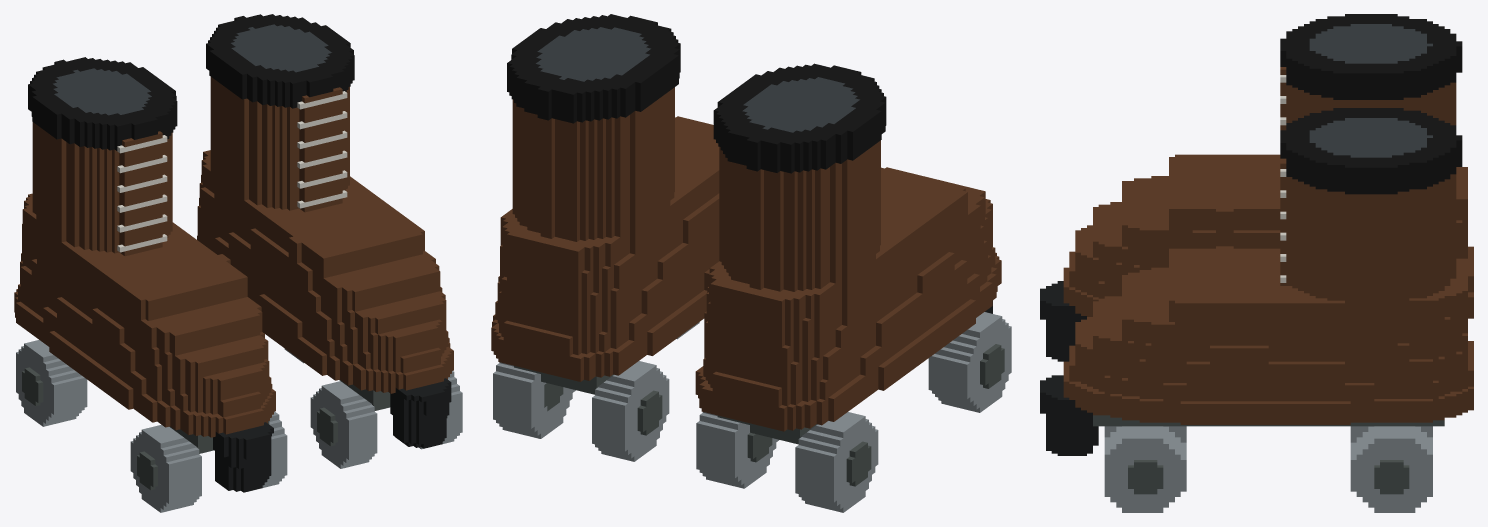
File: roller_skates.glb
3 renders of one model, left to right at view 1: azimuth 30°, elevation 25°; view 2: azimuth 150°, elevation 25°; view 3: azimuth 270°, elevation 25°, orthographic. The views are drawn at different scales.
Visible parts, largest first — view 1: roller_skates:compound; view 2: roller_skates:compound; view 3: roller_skates:compound.
Part boxes in pixels (bbox=[...]): roller_skates:compound: bbox=[14, 14, 462, 512]; roller_skates:compound: bbox=[491, 14, 1011, 512]; roller_skates:compound: bbox=[1040, 14, 1473, 512].
Size of the model in its own units: 0.256 by 0.26 by 0.296.
